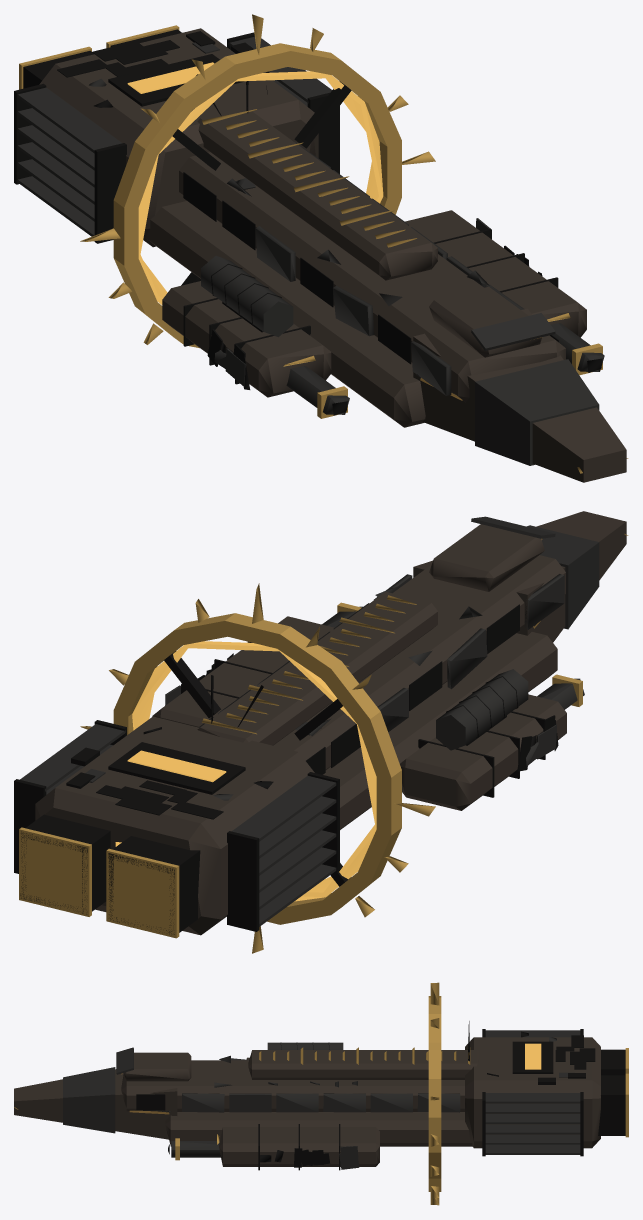
The model's file is goniec-wybudzeni-coalition-13-lod1.glb.
3 renders of one model, top to bottom at view 1: azimuth 30°, elevation 25°; view 2: azimuth 150°, elevation 25°; view 3: azimuth 270°, elevation 25°, orthographic. The views are drawn at different scales.
Bounding box in the file's own units: 5.96 × 5.96 × 15.
